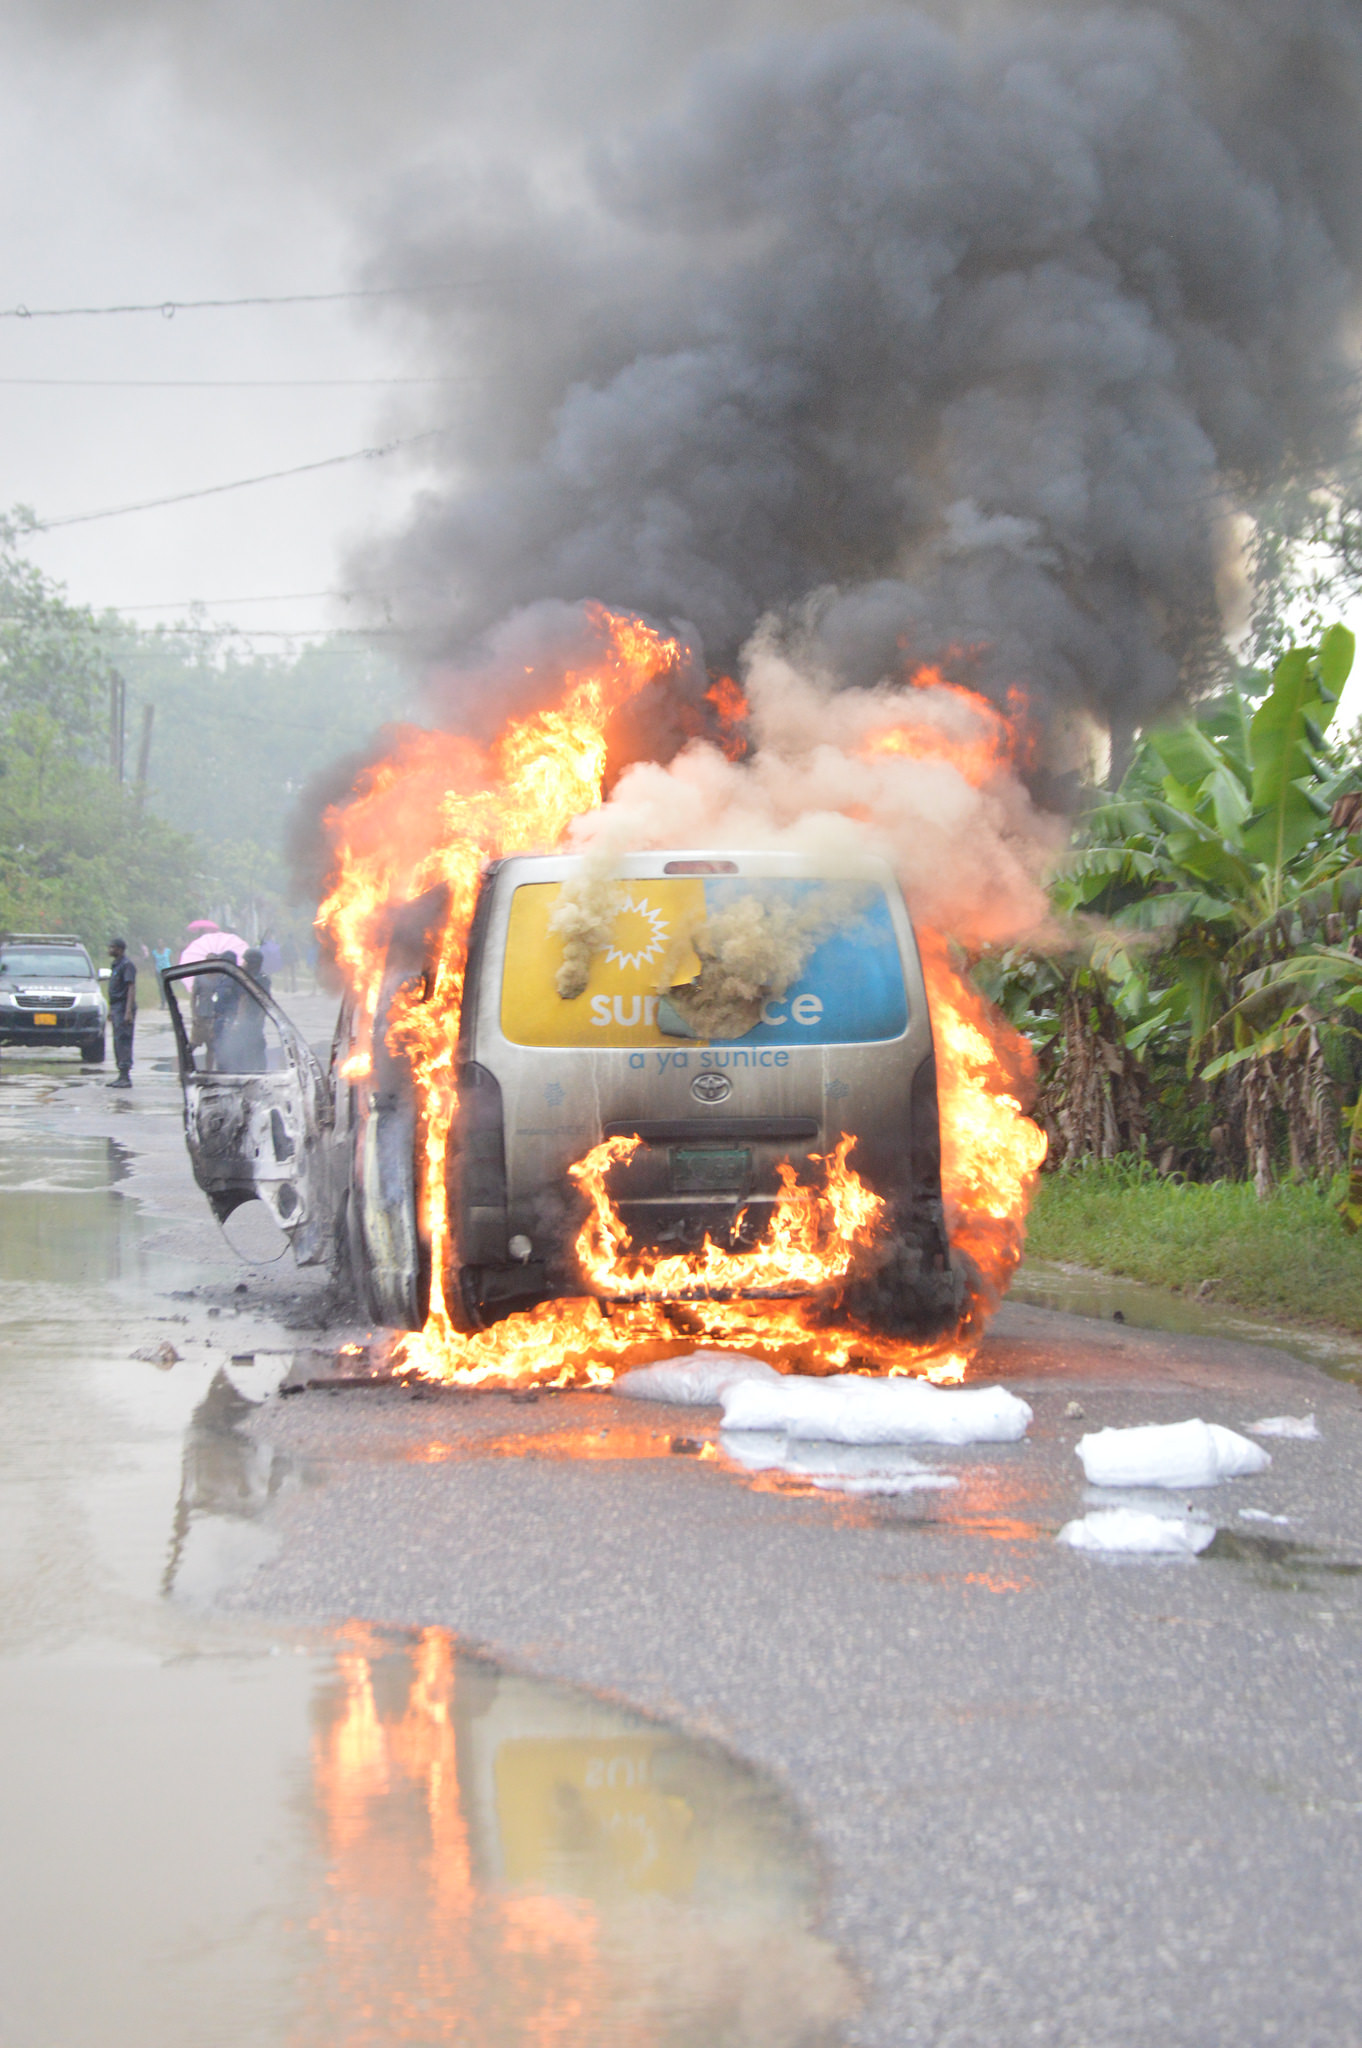fire: (299, 623, 1047, 1396)
